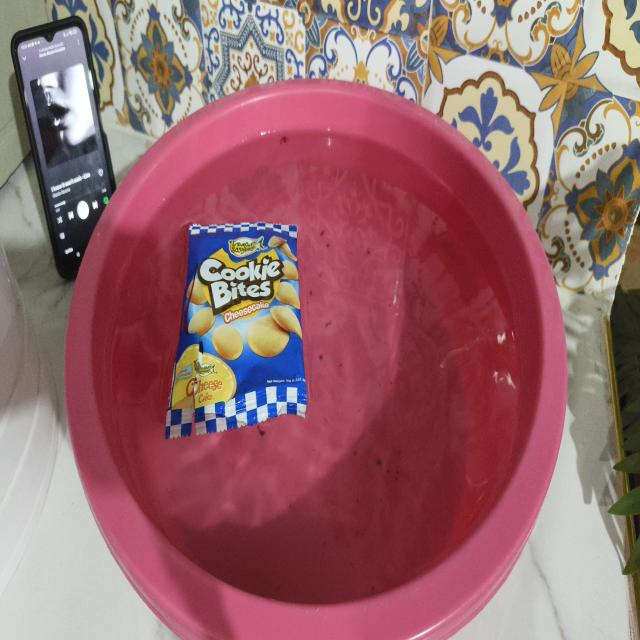Plastic Wrapper: (145, 186, 339, 475)
